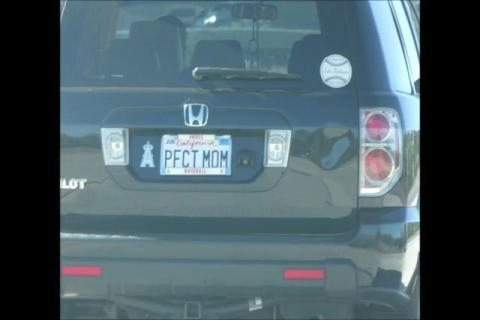LicensePlate: (160, 135, 231, 181)
